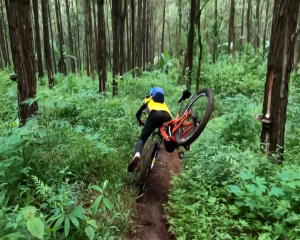fall: (127, 86, 212, 175)
